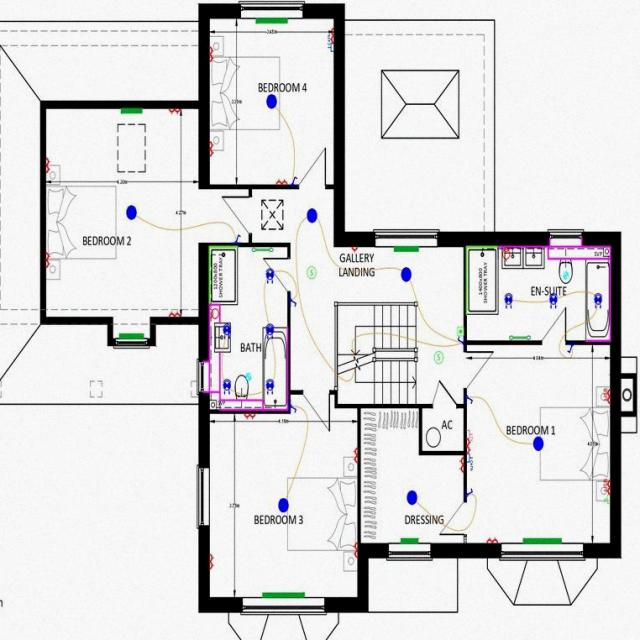Cat 6 Data Socket: (466, 452, 473, 470), (326, 33, 332, 50)
Ceiling Mounted Continuous Extract FanWith Boost Mode Activated By Light Switch: (244, 372, 250, 380), (562, 270, 568, 278)
Co-Ax TV Socket: (466, 429, 472, 441)
D: (208, 554, 214, 570)
Double Socket: (208, 140, 214, 156), (243, 412, 256, 419), (351, 542, 357, 557), (351, 447, 357, 462), (465, 438, 471, 453), (208, 46, 214, 61), (44, 251, 50, 266), (274, 177, 286, 184), (327, 26, 332, 42), (168, 309, 179, 316), (486, 536, 498, 542), (168, 108, 180, 114), (46, 156, 50, 172), (458, 456, 462, 472)
Full Height Tiling: (466, 244, 498, 314), (207, 244, 237, 304)
Light Switch: (289, 175, 297, 184), (566, 343, 574, 352), (465, 487, 473, 495), (466, 394, 473, 403), (456, 335, 463, 343), (233, 234, 240, 241), (290, 298, 296, 306), (290, 404, 296, 412)
Low Energy Downlighter: (264, 378, 274, 394), (503, 292, 512, 308), (265, 267, 273, 284), (265, 322, 273, 338), (222, 378, 230, 394), (548, 292, 556, 308), (593, 292, 601, 308), (223, 322, 230, 338)
Low Energy Pendant Light: (125, 204, 136, 219), (277, 497, 288, 512), (400, 266, 410, 282), (532, 435, 542, 450), (266, 94, 276, 108), (306, 208, 316, 222), (406, 490, 416, 504)
Mains Wired Smoke Detector: (306, 265, 316, 278), (432, 350, 442, 363)
Programmable Room Thermostat: (456, 326, 463, 335)
Radiator: (522, 538, 561, 544), (261, 592, 304, 597), (255, 16, 288, 22), (393, 245, 418, 251), (118, 332, 143, 338), (120, 108, 141, 112), (400, 538, 417, 542)
Shaver Socket: (500, 245, 510, 261), (208, 308, 221, 318)
Single Socket: (351, 246, 357, 252)
Telephone Socket: (602, 494, 609, 503)
USB Double Socket: (601, 386, 610, 404), (601, 478, 610, 493)
